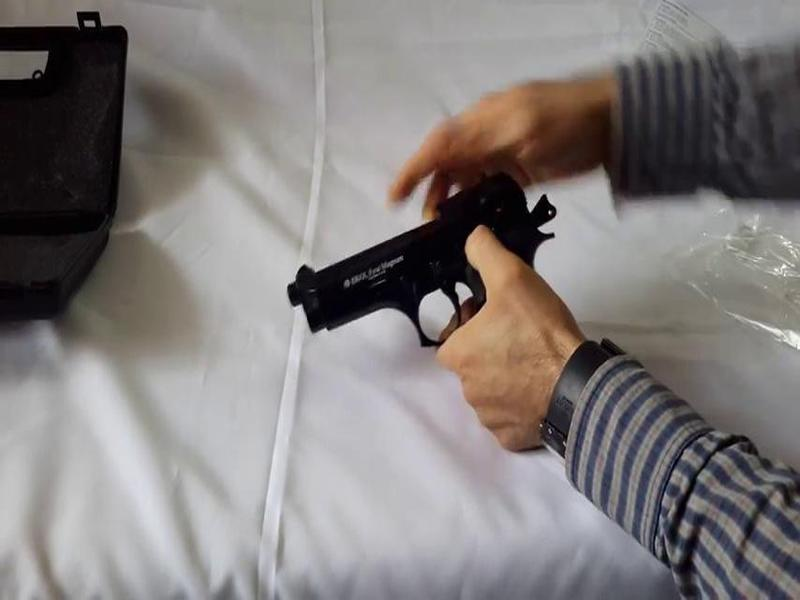Pistola: (273, 164, 584, 387)
